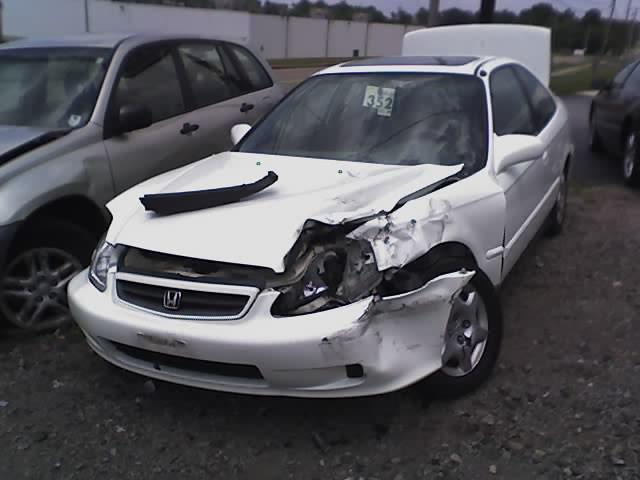bonnet-dent: (127, 148, 388, 253)
fender-dent: (372, 184, 499, 274)
front-bumper-dent: (295, 273, 461, 403)
